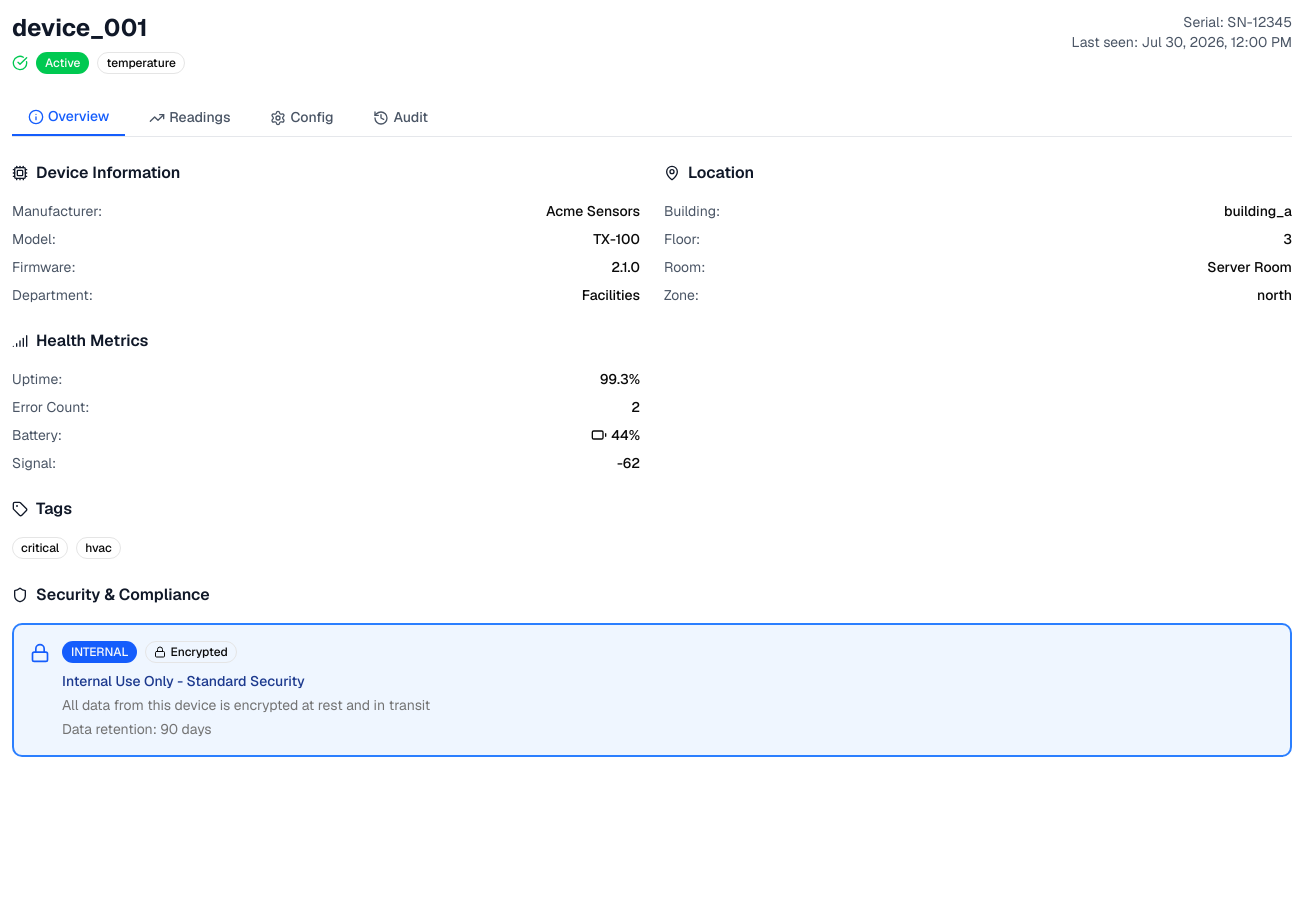
Test: DeviceDetailView › optional fields › should show the calibration date on the config tab when set
What coordinates should you click on to do the following:
click the button "Config"
I would click on:
 (302, 117)
Its box is 254,98 -> 349,136.
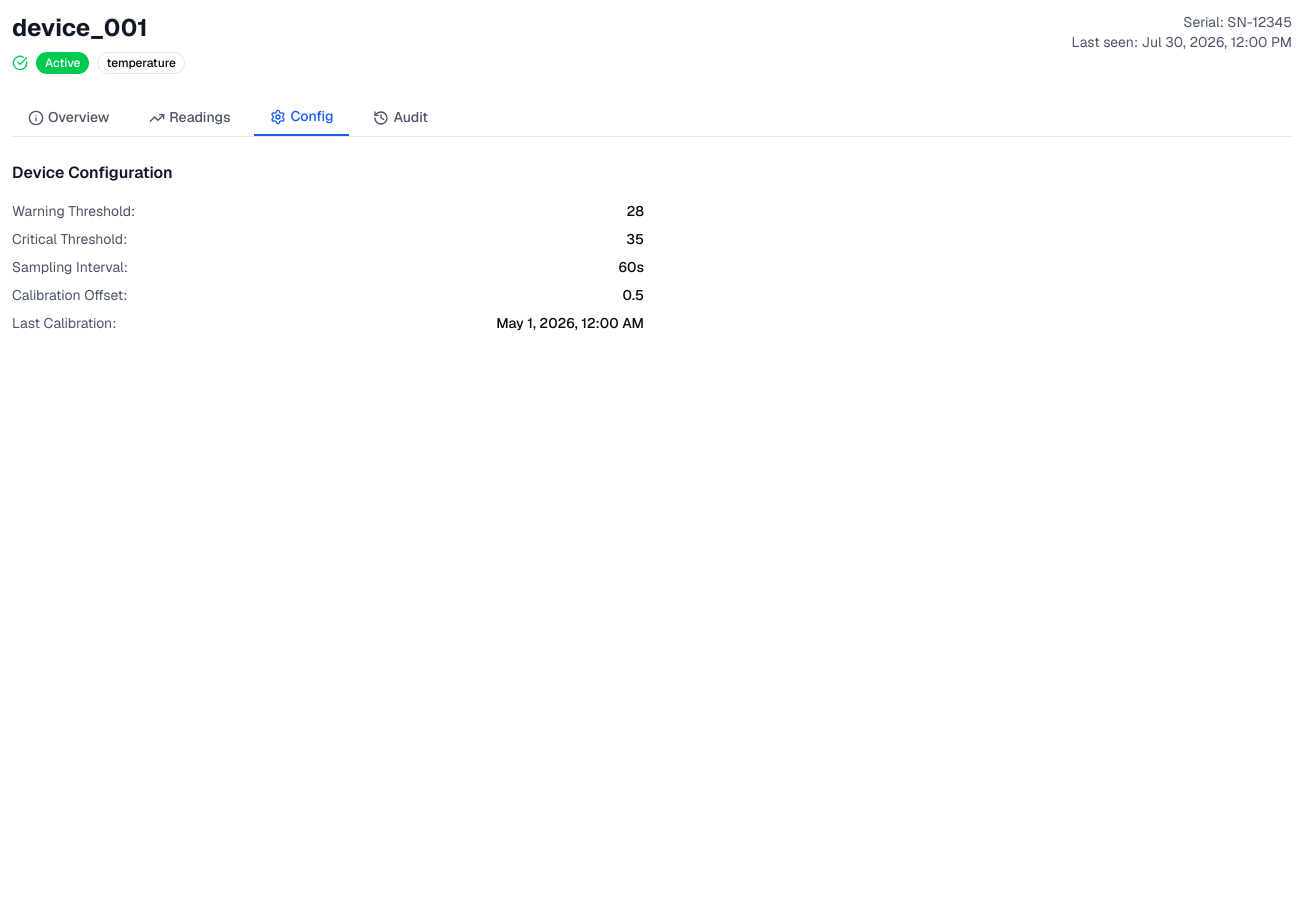
Expected: the text "Last Calibration:" is shown, 12,313 -> 116,333
